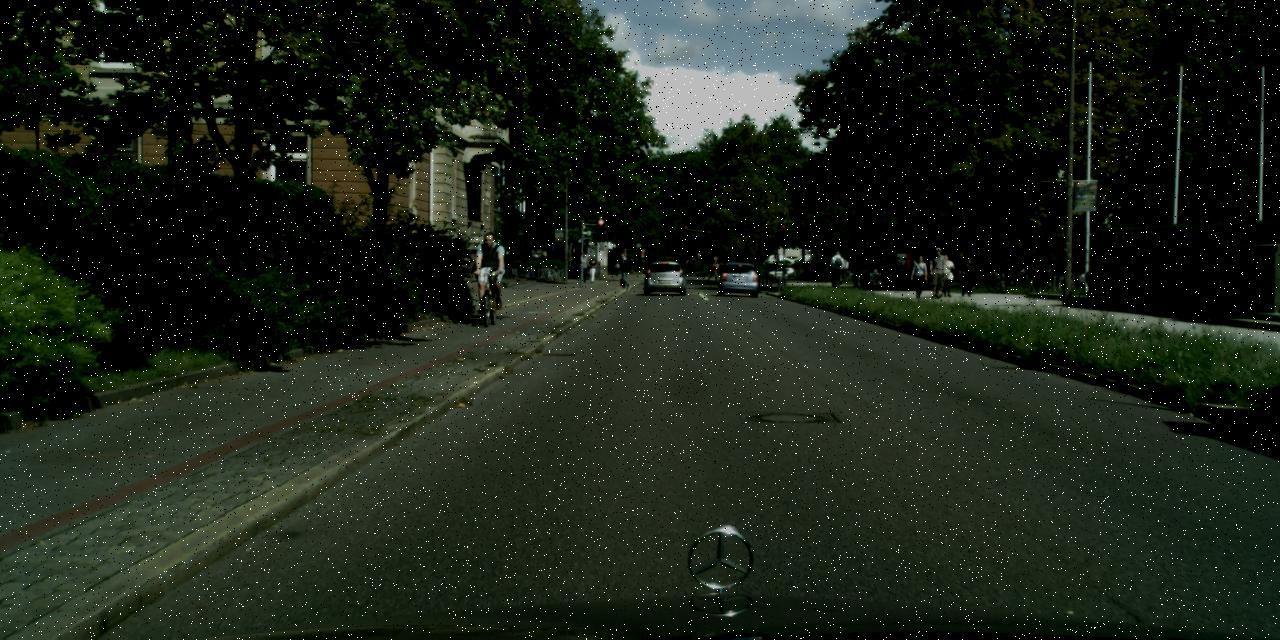ped: (474, 232, 506, 310), (926, 246, 946, 298), (910, 253, 929, 299), (937, 253, 954, 296), (959, 254, 975, 295), (829, 249, 843, 287), (617, 253, 631, 288), (834, 253, 846, 283), (578, 255, 590, 283), (851, 256, 862, 286), (586, 256, 597, 282), (708, 255, 718, 283), (614, 261, 620, 275)
